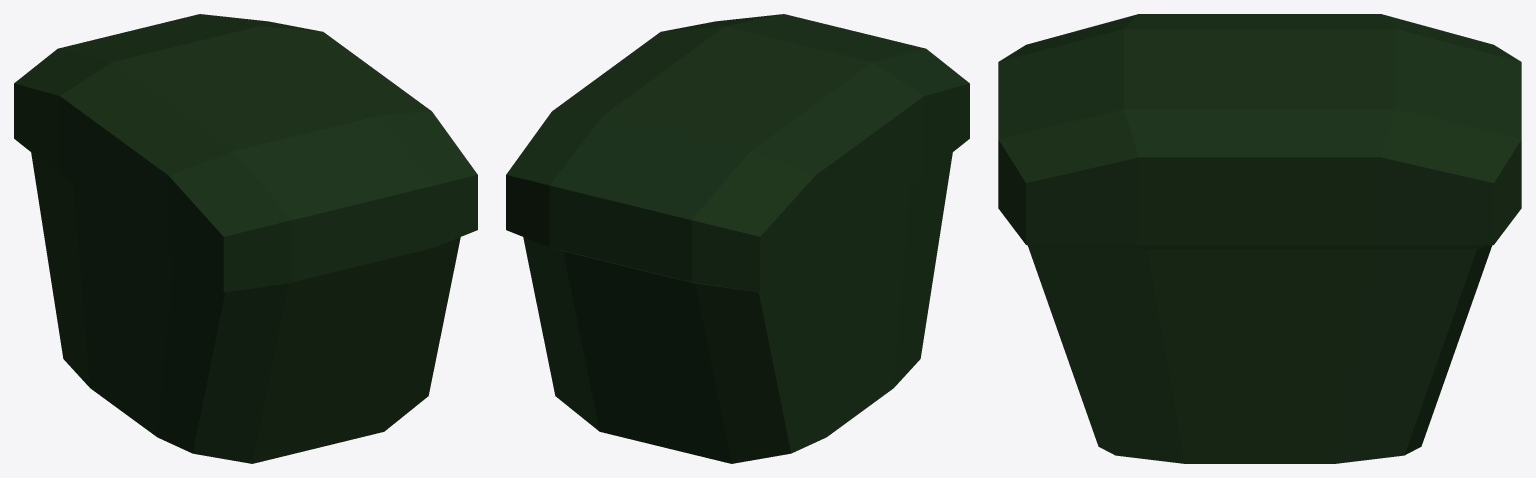
Rendered from Trash.fbx.
The picture shows the model from 3 angles, left to right: view 1: azimuth 30°, elevation 25°; view 2: azimuth 150°, elevation 25°; view 3: azimuth 270°, elevation 25°; orthographic projection. The views are drawn at different scales.
Parts seen in each view (by area): view 1: Cube.016; view 2: Cube.016; view 3: Cube.016.
Part boxes in pixels (x1,y1,x2,y2): Cube.016: (14,14,477,463); Cube.016: (506,14,969,463); Cube.016: (998,14,1521,463).
Bounding box in the file's own units: 159 × 181 × 246.
